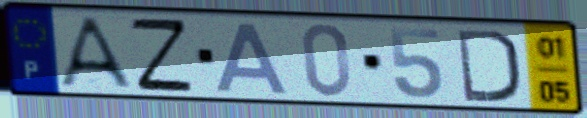0: (298, 22, 353, 99)
5: (386, 25, 445, 100)
A: (55, 15, 138, 92), (213, 20, 294, 96)
D: (454, 26, 524, 105)
Z: (126, 16, 197, 93)
